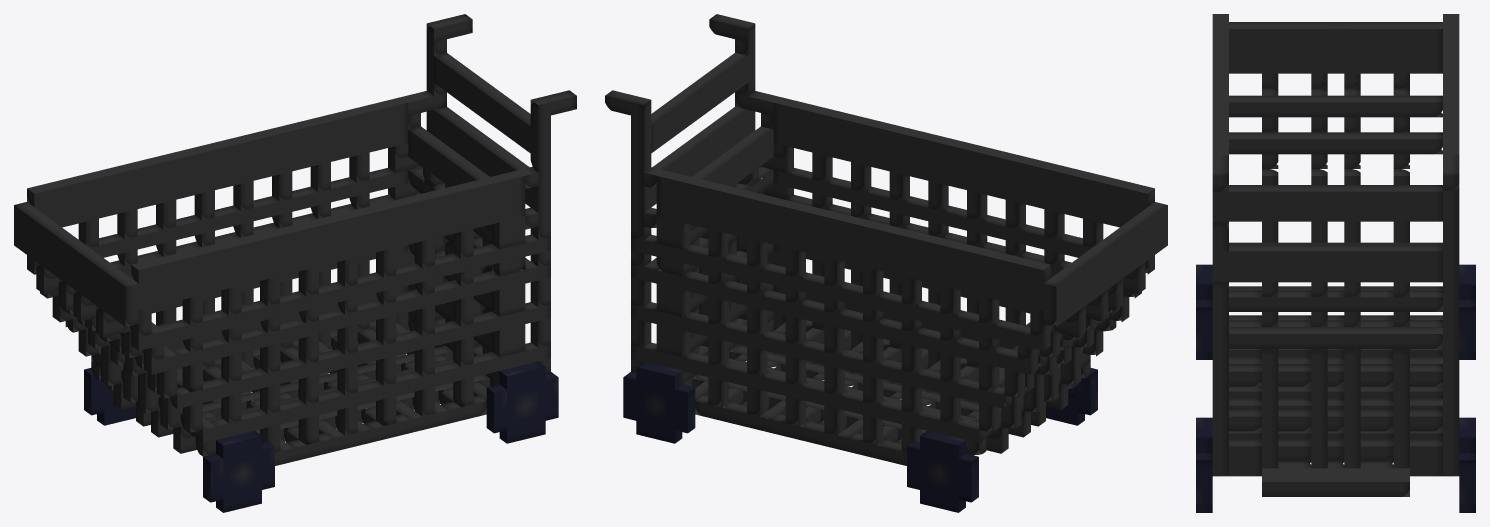
File: wuzek_sklepowy.dae
The picture shows the model from 3 angles, left to right: view 1: azimuth 30°, elevation 25°; view 2: azimuth 150°, elevation 25°; view 3: azimuth 270°, elevation 25°; orthographic projection. The views are drawn at different scales.
Visible parts, largest first — view 1: Content; view 2: Content; view 3: Content.
Boxes of the visible parts, x1,y1,x2,y2 form: Content: [14, 14, 576, 512]; Content: [605, 14, 1167, 512]; Content: [1196, 14, 1475, 512].
Bounding box in the file's own units: 35 × 24 × 17.
Materials: 1 (1 with a texture image).
